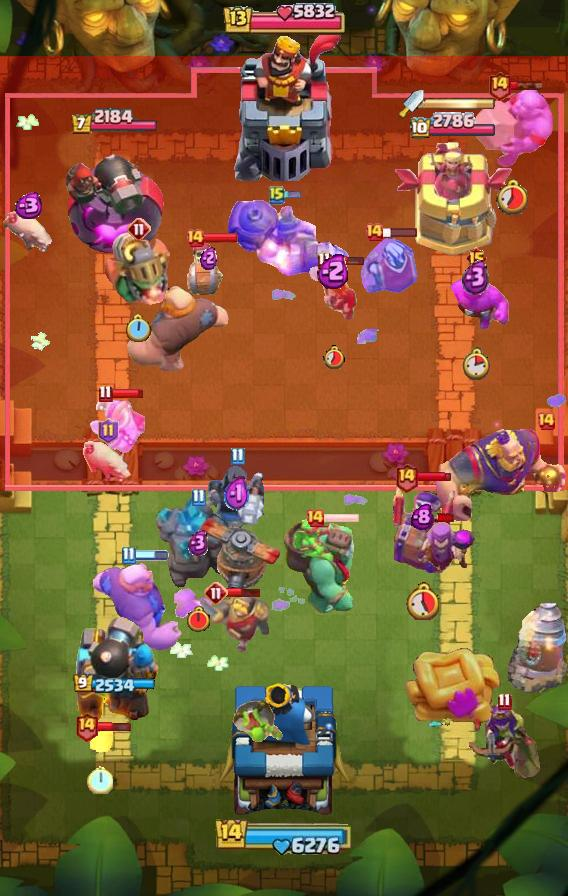archer-queen: (470, 86, 556, 170)
balloon: (126, 283, 230, 375), (90, 561, 184, 653)
bar: (395, 142, 514, 256)
bar-level: (231, 698, 285, 746)
barbarian-hut: (463, 702, 545, 778)
cannoneer-tower: (154, 495, 242, 593)
clock: (214, 816, 354, 856), (221, 0, 347, 40)
dark-prince: (192, 511, 290, 593)
electro-spirit: (317, 251, 351, 288), (224, 474, 250, 513), (462, 259, 490, 295), (12, 193, 45, 220), (411, 503, 434, 530), (188, 529, 209, 556), (199, 246, 217, 270)
elixir: (495, 177, 531, 215), (406, 582, 439, 620), (462, 348, 490, 380), (126, 314, 152, 344), (87, 766, 113, 795), (186, 606, 211, 633), (322, 345, 345, 369)
emote: (96, 720, 131, 733), (324, 512, 361, 524), (382, 226, 418, 238), (203, 232, 239, 244), (416, 471, 452, 483), (329, 255, 365, 266), (133, 551, 169, 562), (226, 586, 262, 597), (508, 80, 543, 91), (110, 388, 144, 399), (436, 512, 455, 524), (282, 190, 302, 200)
firecracker: (197, 594, 271, 654)
giant: (0, 208, 56, 258), (82, 435, 134, 485)
goblin-giant: (89, 399, 149, 455)
hog-rider: (307, 262, 361, 322)
ice-spirit-evolution: (87, 725, 113, 753)
inferno-dragon: (207, 463, 267, 553)
king-tower: (219, 678, 349, 826), (223, 31, 345, 181)
king-tower-bar: (424, 97, 496, 111)
knight: (183, 242, 233, 298)
lava-hound: (282, 516, 370, 614)
lightning: (433, 428, 568, 528)
magic-archer: (508, 602, 568, 694)
night-witch: (104, 231, 174, 305)
rascal-girl: (414, 521, 476, 575)
selected: (69, 108, 158, 136), (409, 112, 497, 140), (72, 673, 155, 695)
skeleton-king: (359, 232, 419, 298)
skeleton-king-bar: (389, 479, 455, 573)
text: (488, 70, 513, 101), (394, 462, 419, 493), (73, 711, 98, 742), (127, 217, 151, 241), (204, 581, 228, 605), (464, 246, 487, 270), (98, 418, 119, 444), (364, 222, 384, 242), (185, 228, 205, 248), (536, 411, 556, 431), (305, 508, 325, 528), (269, 185, 285, 205), (317, 251, 332, 270), (191, 489, 206, 508), (99, 385, 114, 403), (231, 447, 245, 466), (121, 547, 135, 566), (497, 693, 511, 711)
tornado: (442, 275, 510, 331)
tower-bar: (64, 138, 164, 256), (64, 615, 164, 731)
wizard: (226, 199, 350, 277)
